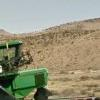Tractor: (1, 38, 55, 100)
